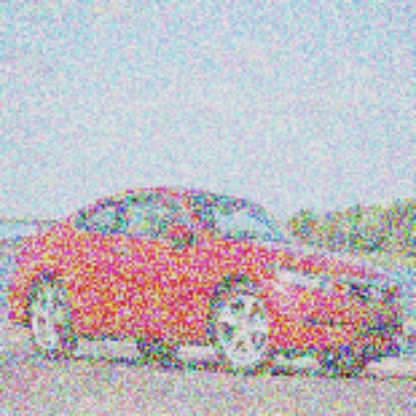Vehicle: (8, 188, 408, 378)
